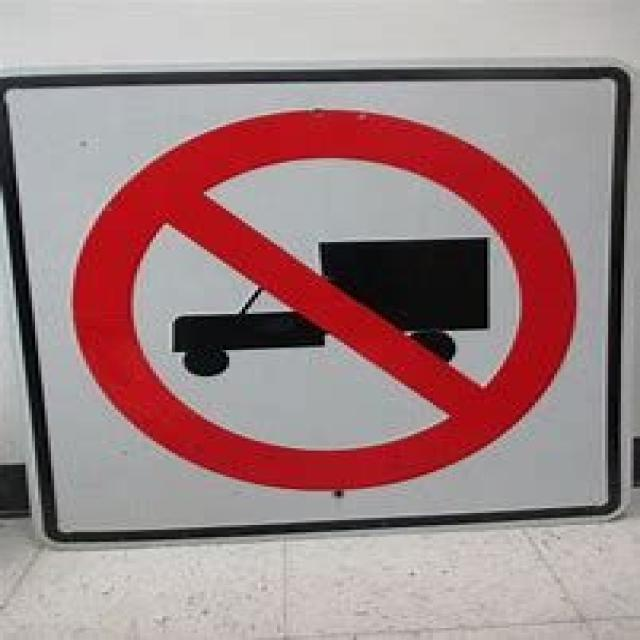TRUCK_PROHIBITED: (62, 108, 594, 496)
